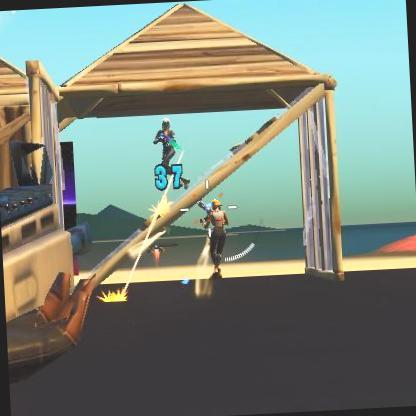person: (199, 200, 232, 274), (148, 114, 182, 182)
